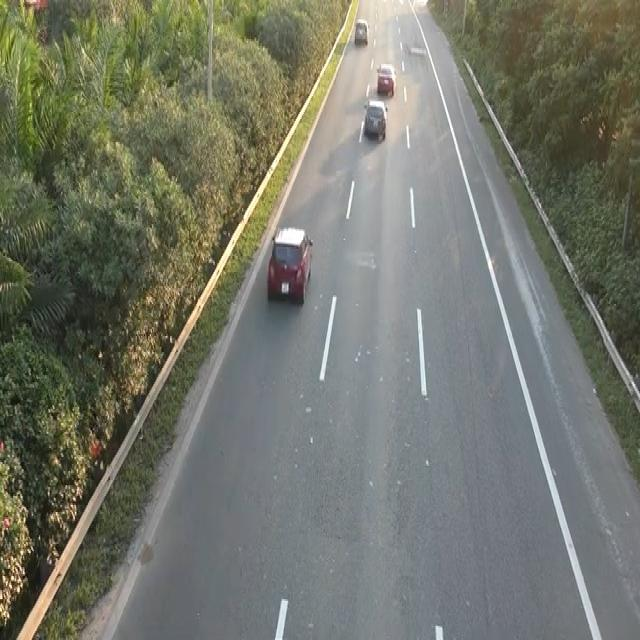bus: (265, 222, 314, 306), (363, 96, 387, 140)
